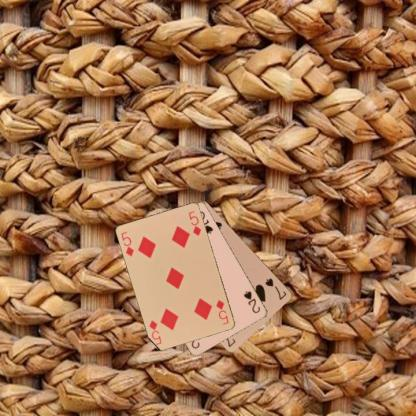2s: (241, 288, 262, 314)
5d: (213, 297, 230, 326), (119, 228, 135, 258)
7s: (263, 276, 288, 301)
